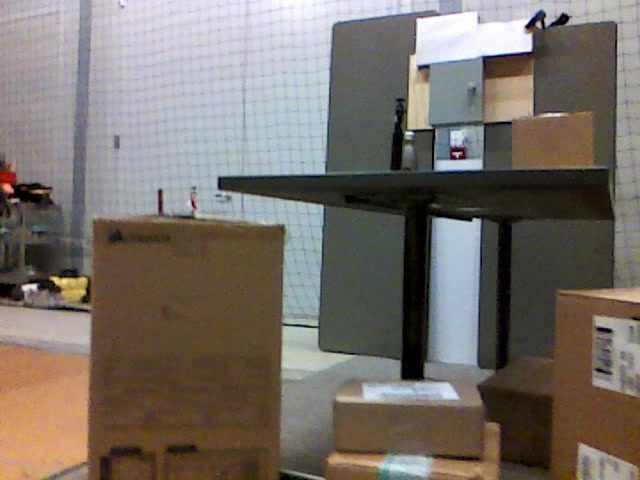box: (87, 215, 281, 480), (555, 283, 640, 480), (333, 376, 484, 455), (327, 422, 500, 480), (479, 358, 554, 466), (510, 113, 594, 168)
